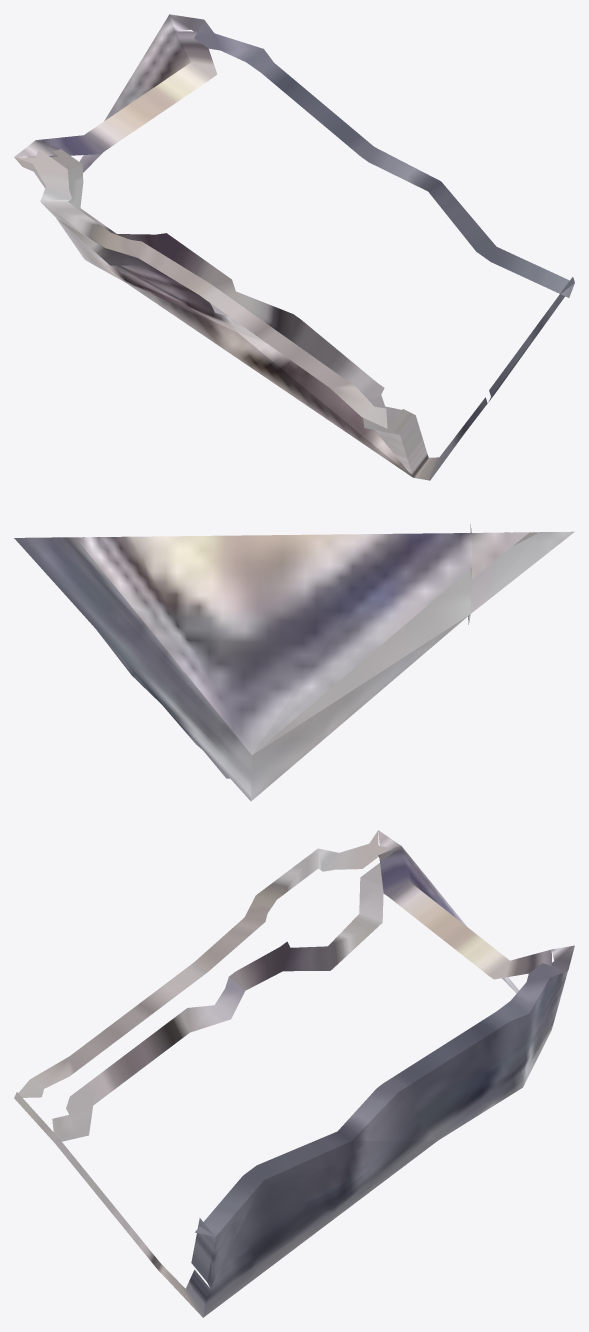
The picture shows the model from 3 angles, top to bottom: view 1: azimuth 30°, elevation 25°; view 2: azimuth 150°, elevation 25°; view 3: azimuth 270°, elevation 25°; orthographic projection. The views are drawn at different scales.
Size of the model in its own units: 9.44 by 6.45 by 9.69.
1 material, 1 textured.
